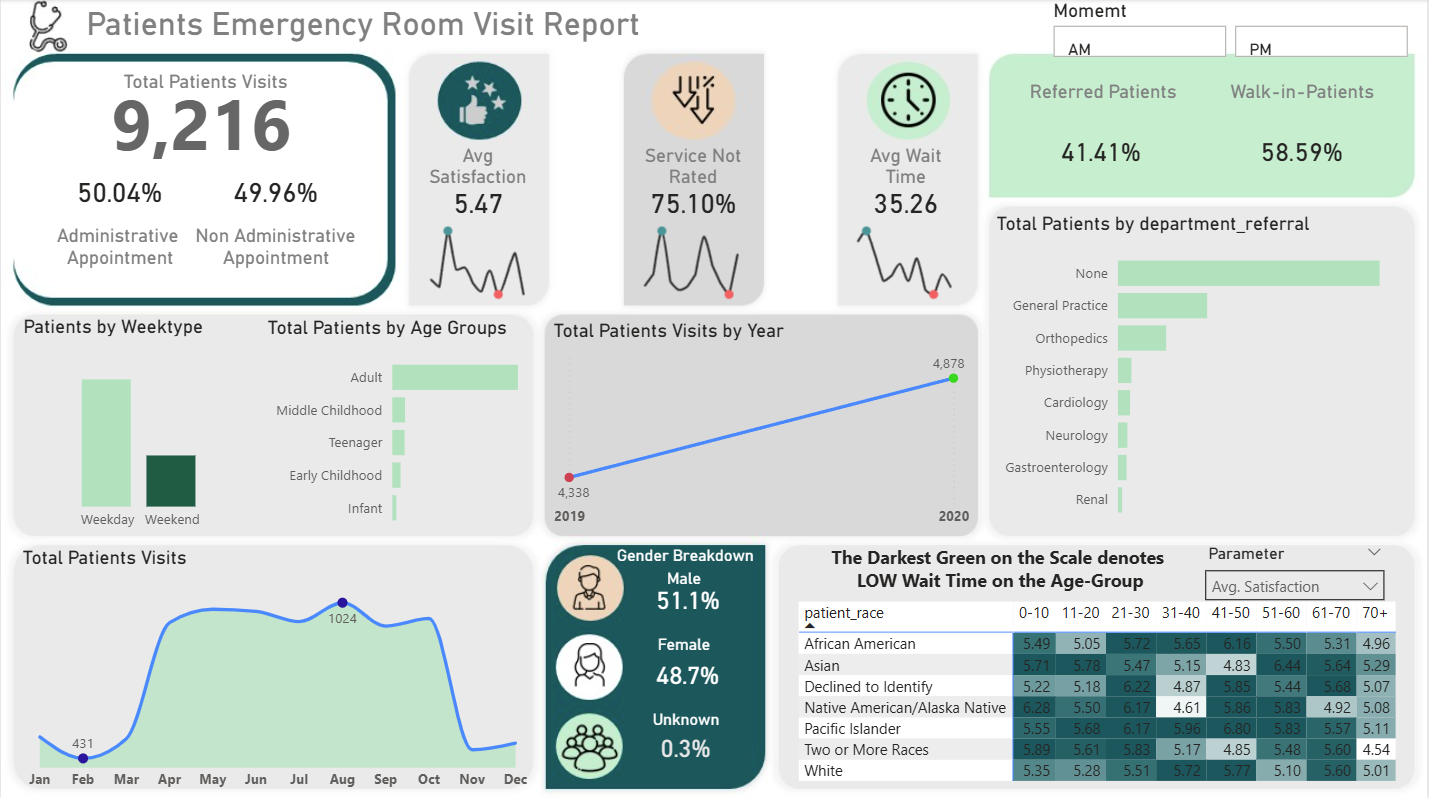

This screenshot's page, from the dashboard's own definition file:
{"tool":"powerbi","page":{"name":"Page 1","canvas":[1280,720],"ordinal":0},"visuals":[{"type":"card","fields":{"Values":["Calculations.Total Patients"]},"box":[72,50,216,116],"z":0},{"type":"card","fields":{"Values":["Calculations.% None - Administrative Schedule"]},"box":[194,143,105.5,60.9],"z":1000},{"type":"card","fields":{"Values":["Calculations.% Administrative Schedule"]},"box":[56.7,143,99.1,60.9],"z":2000},{"type":"card","title":"Avg Satisfaction","fields":{"Values":["Calculations.Average Satisfaction Score"]},"box":[368,130,120,67],"z":3000},{"type":"card","title":"Service Not Rated","fields":{"Values":["Calculations.% No Rating"]},"box":[564,130,115,67],"z":4000},{"type":"card","title":"Avg Wait Time","fields":{"Values":["Calculations.Average Wait Time"]},"box":[758,130,109,67],"z":5000},{"type":"pivotTable","fields":{"Values":["Calculations.Average Satisfaction Score"],"Rows":["Patients Dataset.patient_race"],"Columns":["Patients Dataset.Age Buckets"]},"box":[711,536,551,173],"z":6000},{"type":"slicer","fields":{"Values":["Parameter.Parameter"]},"box":[1071,485,181,59],"z":7000},{"type":"clusteredBarChart","fields":{"Category":["Patients Dataset.Age Groups"],"Y":["Calculations.Total Patients"]},"box":[234,285,249,201],"z":8000},{"type":"areaChart","title":"Total Patients Visits","fields":{"Category":["Date.Month"],"Y":["Calculations.Total Patients","Calculations.Values Max Point (Month)"]},"box":[14,491,468,228],"z":9000},{"type":"advancedSlicerVisual","fields":{"Values":["Patients Dataset.Momemt"]},"box":[940,0,329,57],"z":10000},{"type":"lineChart","title":"Total Patients Visits by Year","fields":{"Category":["Date.Year"],"Y":["Calculations.Total Patients","Calculations.Values Max Point (year)"]},"box":[491,287,383,195],"z":11000},{"type":"clusteredBarChart","fields":{"Y":["Calculations.Total Patients"],"Category":["Patients Dataset.department_referral"]},"box":[889,191,380,287],"z":12000},{"type":"card","fields":{"Values":["Calculations.% Un Reffered Patients"]},"box":[1094.1,107.7,146.4,58.2],"z":13000},{"type":"card","fields":{"Values":["Calculations.HitMap Caption"]},"box":[712,478,370,67],"z":14000},{"type":"card","fields":{"Values":["Calculations.% Reffered Patients"]},"box":[915.9,107.7,143.6,58.2],"z":15000},{"type":"textbox","box":[33.1,197.5,147.3,50],"z":16000},{"type":"textbox","box":[169.5,197.5,154.5,50],"z":17000},{"type":"textbox","box":[912.3,68.6,154.5,39.1],"z":18000},{"type":"textbox","box":[1090.5,68.6,154.5,39.1],"z":19000},{"type":"clusteredColumnChart","title":"Patients by Weektype","fields":{"Y":["Calculations.Total Patients"],"Category":["Date.Weektype"]},"box":[15,284,219,202],"z":20000},{"type":"card","fields":{"Values":["Calculations.% Female Visit"]},"box":[546.7,580.8,139.2,52.1],"z":21000},{"type":"card","fields":{"Values":["Calculations.% Unknown Visit"]},"box":[544.9,641.9,139.2,61],"z":22000},{"type":"card","fields":{"Values":["Calculations.% Male Visit"]},"box":[546.7,514.4,139.2,51.2],"z":23000},{"type":"textbox","box":[72,0,654,57],"z":24000},{"type":"textbox","box":[96,59,175,29],"z":25000},{"type":"PBI_CV_25997FEB_F466_44FA_B562_AC4063283C4C","fields":{"measure":["Calculations.Average Satisfaction Score"],"axis":["Date.Month"]},"box":[368,191,123,85],"z":26000},{"type":"PBI_CV_25997FEB_F466_44FA_B562_AC4063283C4C","fields":{"measure":["Calculations.% No Rating"],"axis":["Date.Month"]},"box":[560,191,123,85],"z":27000},{"type":"PBI_CV_25997FEB_F466_44FA_B562_AC4063283C4C","fields":{"measure":["Calculations.Average Wait Time"],"axis":["Date.Month"]},"box":[751,191,123,85],"z":28000},{"type":"textbox","box":[532,486,164,29],"z":29000},{"type":"textbox","box":[531.5,506.3,163.4,29.6],"z":30000},{"type":"textbox","box":[531.5,565.6,163.4,29.6],"z":31000},{"type":"textbox","box":[533.3,632.9,163.4,29.6],"z":32000}]}

Visuals, with their boxes in screenshot pixels (x1, y1, x2, y2), scaled from the page's 1280x720 canvas onto the 1429x798 screenshot:
card - Calculations.Total Patients: region(80, 55, 322, 184)
card - Calculations.% None - Administrative Schedule: region(217, 158, 334, 226)
card - Calculations.% Administrative Schedule: region(63, 158, 174, 226)
"Avg Satisfaction" card: region(411, 144, 545, 218)
"Service Not Rated" card: region(630, 144, 758, 218)
"Avg Wait Time" card: region(846, 144, 968, 218)
pivotTable - Calculations.Average Satisfaction Score x Patients Dataset.patient_race: region(794, 594, 1409, 786)
slicer - Parameter.Parameter: region(1196, 538, 1398, 603)
clusteredBarChart - Patients Dataset.Age Groups x Calculations.Total Patients: region(261, 316, 539, 539)
"Total Patients Visits" areaChart: region(16, 544, 538, 797)
advancedSlicerVisual - Patients Dataset.Momemt: region(1049, 0, 1417, 63)
"Total Patients Visits by Year" lineChart: region(548, 318, 976, 534)
clusteredBarChart - Calculations.Total Patients x Patients Dataset.department_referral: region(992, 212, 1417, 530)
card - Calculations.% Un Reffered Patients: region(1221, 119, 1385, 184)
card - Calculations.HitMap Caption: region(795, 530, 1208, 604)
card - Calculations.% Reffered Patients: region(1023, 119, 1183, 184)
textbox: region(37, 219, 201, 274)
textbox: region(189, 219, 362, 274)
textbox: region(1018, 76, 1191, 119)
textbox: region(1217, 76, 1390, 119)
"Patients by Weektype" clusteredColumnChart: region(17, 315, 261, 539)
card - Calculations.% Female Visit: region(610, 644, 766, 701)
card - Calculations.% Unknown Visit: region(608, 711, 764, 779)
card - Calculations.% Male Visit: region(610, 570, 766, 627)
textbox: region(80, 0, 811, 63)
textbox: region(107, 65, 303, 98)
PBI_CV_25997FEB_F466_44FA_B562_AC4063283C4C - Calculations.Average Satisfaction Score x Date.Month: region(411, 212, 548, 306)
PBI_CV_25997FEB_F466_44FA_B562_AC4063283C4C - Calculations.% No Rating x Date.Month: region(625, 212, 763, 306)
PBI_CV_25997FEB_F466_44FA_B562_AC4063283C4C - Calculations.Average Wait Time x Date.Month: region(838, 212, 976, 306)
textbox: region(594, 539, 777, 571)
textbox: region(593, 561, 776, 594)
textbox: region(593, 627, 776, 660)
textbox: region(595, 701, 778, 734)
